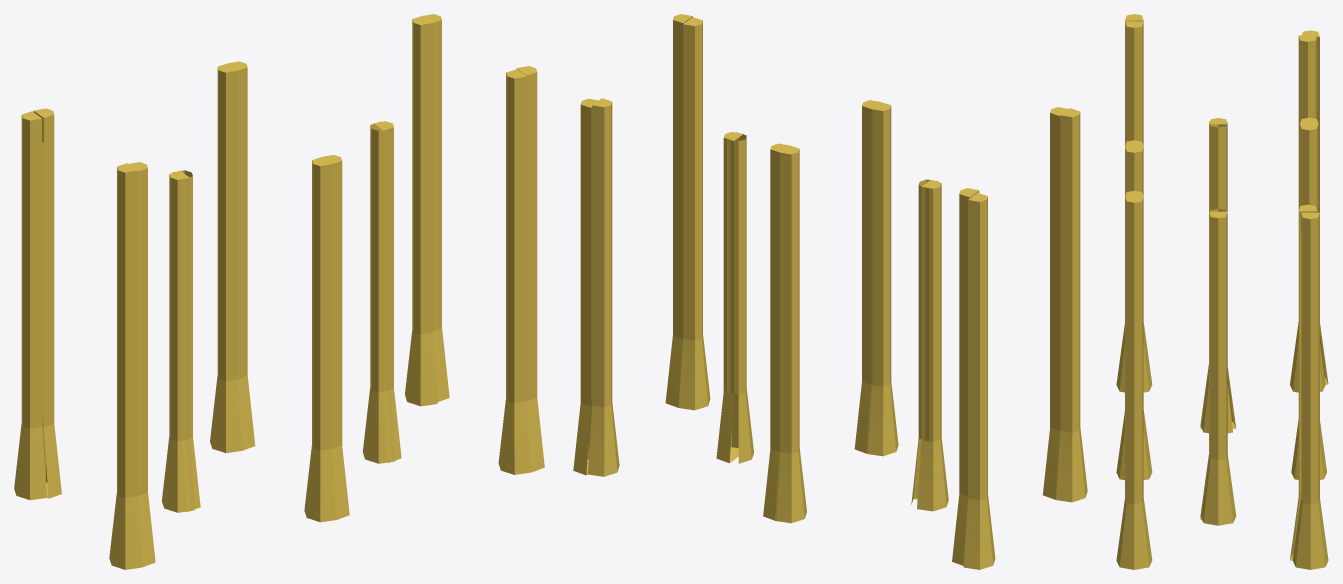
The model's file is wheat3.fbx.
3 renders of one model, left to right at view 1: azimuth 30°, elevation 25°; view 2: azimuth 150°, elevation 25°; view 3: azimuth 270°, elevation 25°, orthographic. The views are drawn at different scales.
Visible parts, largest first — view 1: Cube; view 2: Cube; view 3: Cube.
Boxes of the visible parts, box(x1,y1,x2,y2) form: Cube: box(14, 14, 544, 569); Cube: box(573, 14, 1087, 569); Cube: box(1116, 14, 1328, 569).
Bounding box in the file's own units: 106 × 92.43 × 48.77.
